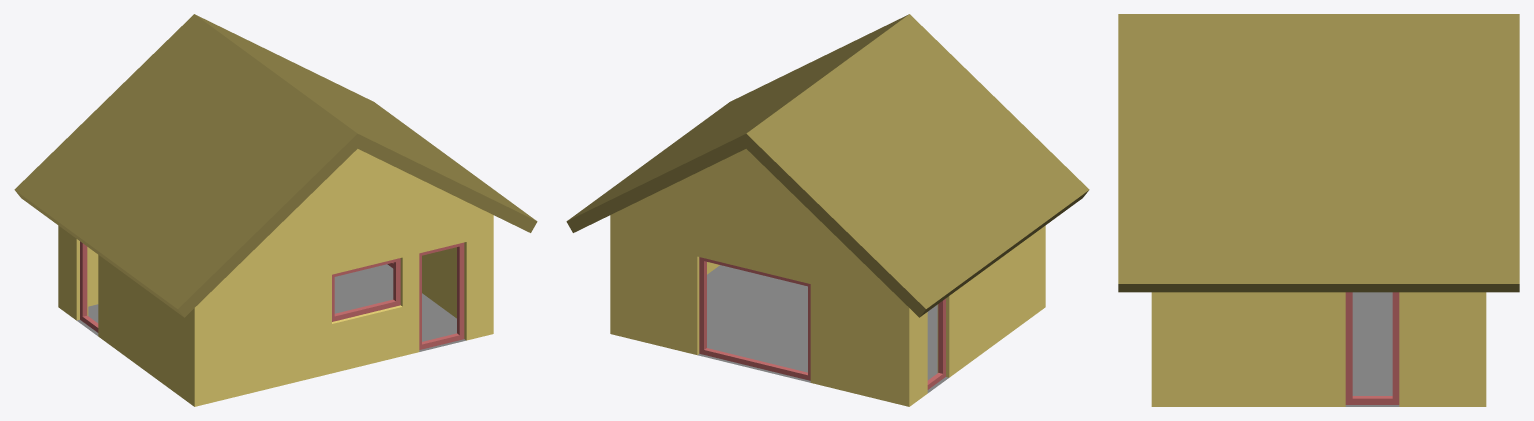
File: result.glb
3 renders of one model, left to right at view 1: azimuth 30°, elevation 25°; view 2: azimuth 150°, elevation 25°; view 3: azimuth 270°, elevation 25°, orthographic. The views are drawn at different scales.
Parts seen in each view (by area): view 1: af0ec566-ee84-46b7-a503-d83888526ac8__undefined (×2), 2a1f954c-4efa-4ee3-be4e-8922680f8388__undefined, 3c0dd00a-9acf-4ad9-8d95-4ac8ef51220f__Plane_6, 3f8799ec-adea-48c2-8483-ec9f1e0b9a6b__Box, df71dd3e-e165-47d9-9098-ff3fca06a997__Box_3, 791f8494-5c77-49ce-8ab7-260e8a948c86__Box_12; view 2: af0ec566-ee84-46b7-a503-d83888526ac8__undefined (×2), 2a1f954c-4efa-4ee3-be4e-8922680f8388__undefined, 3c0dd00a-9acf-4ad9-8d95-4ac8ef51220f__Plane_6, eb4ff5ea-98ad-4b18-ac1f-f077b870d17e__Box_9, 791f8494-5c77-49ce-8ab7-260e8a948c86__Box_12; view 3: af0ec566-ee84-46b7-a503-d83888526ac8__undefined, 2a1f954c-4efa-4ee3-be4e-8922680f8388__undefined, 3c0dd00a-9acf-4ad9-8d95-4ac8ef51220f__Plane_6, 8c32adef-cab7-495b-85d4-b71db1e9e060__Box_15.
Boxes of the visible parts, <box> form: af0ec566-ee84-46b7-a503-d83888526ac8__undefined (×2): <box>14,14,537,317</box>; 2a1f954c-4efa-4ee3-be4e-8922680f8388__undefined: <box>58,149,493,406</box>; 3c0dd00a-9acf-4ad9-8d95-4ac8ef51220f__Plane_6: <box>77,264,465,351</box>; 3f8799ec-adea-48c2-8483-ec9f1e0b9a6b__Box: <box>419,242,464,349</box>; df71dd3e-e165-47d9-9098-ff3fca06a997__Box_3: <box>332,258,400,321</box>; 791f8494-5c77-49ce-8ab7-260e8a948c86__Box_12: <box>80,241,98,332</box>; af0ec566-ee84-46b7-a503-d83888526ac8__undefined (×2): <box>566,14,1089,317</box>; 2a1f954c-4efa-4ee3-be4e-8922680f8388__undefined: <box>610,149,1045,406</box>; 3c0dd00a-9acf-4ad9-8d95-4ac8ef51220f__Plane_6: <box>698,265,948,393</box>; eb4ff5ea-98ad-4b18-ac1f-f077b870d17e__Box_9: <box>699,257,810,380</box>; 791f8494-5c77-49ce-8ab7-260e8a948c86__Box_12: <box>927,298,945,389</box>; af0ec566-ee84-46b7-a503-d83888526ac8__undefined: <box>1118,14,1519,292</box>; 2a1f954c-4efa-4ee3-be4e-8922680f8388__undefined: <box>1151,292,1486,406</box>; 3c0dd00a-9acf-4ad9-8d95-4ac8ef51220f__Plane_6: <box>1345,292,1399,406</box>; 8c32adef-cab7-495b-85d4-b71db1e9e060__Box_15: <box>1345,292,1399,404</box>.
Bounding box in the file's own units: 763 × 500 × 600.
